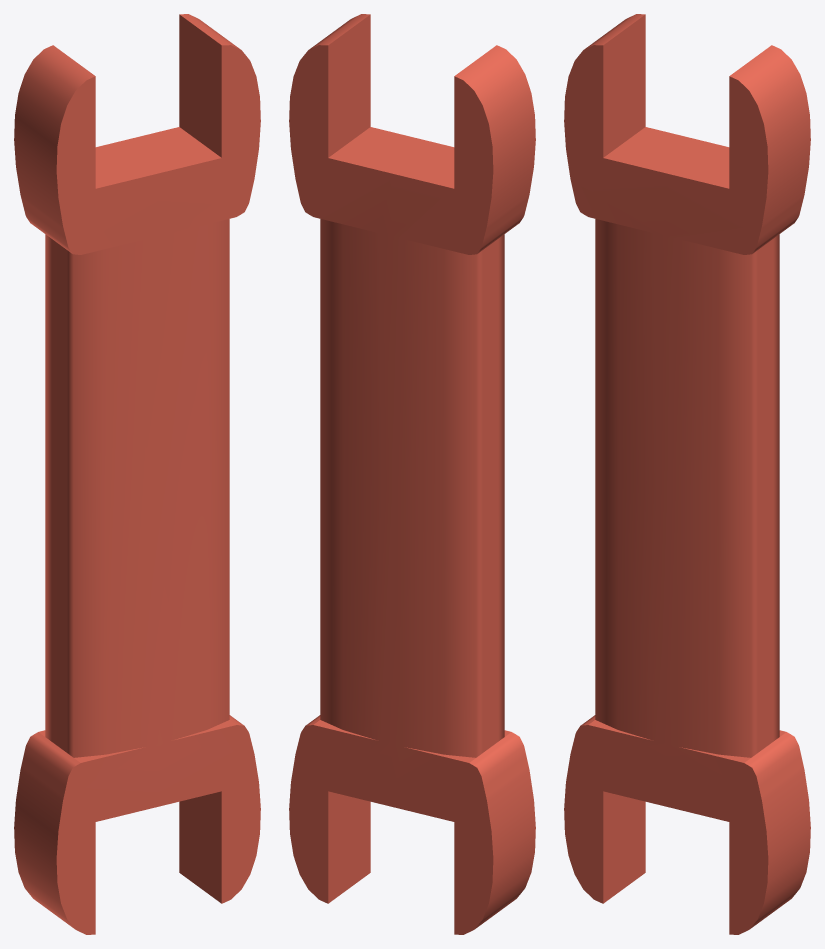
The model's file is wrench.fbx.
3 renders of one model, left to right at view 1: azimuth 30°, elevation 25°; view 2: azimuth 150°, elevation 25°; view 3: azimuth 330°, elevation 25°, orthographic.
Parts seen in each view (by area): view 1: wrench; view 2: wrench; view 3: wrench.
Part boxes in pixels (box(x1,y1,x2,y2)): wrench: box(14, 14, 260, 934); wrench: box(289, 14, 535, 934); wrench: box(564, 14, 810, 934).
Bounding box in the file's own units: 42.86 × 172 × 15.44.
